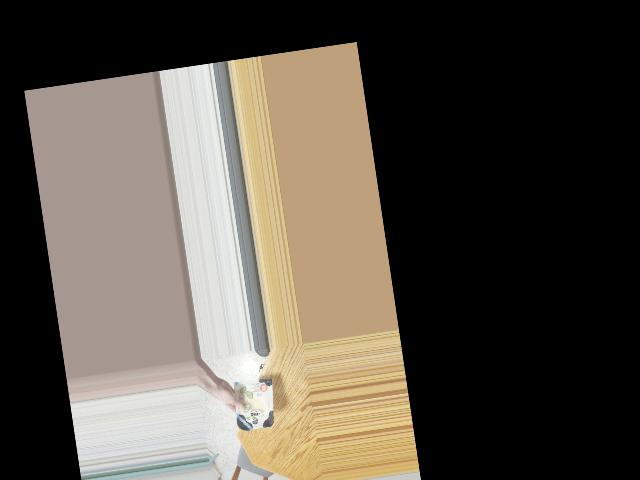cheese: (231, 368, 279, 439)
